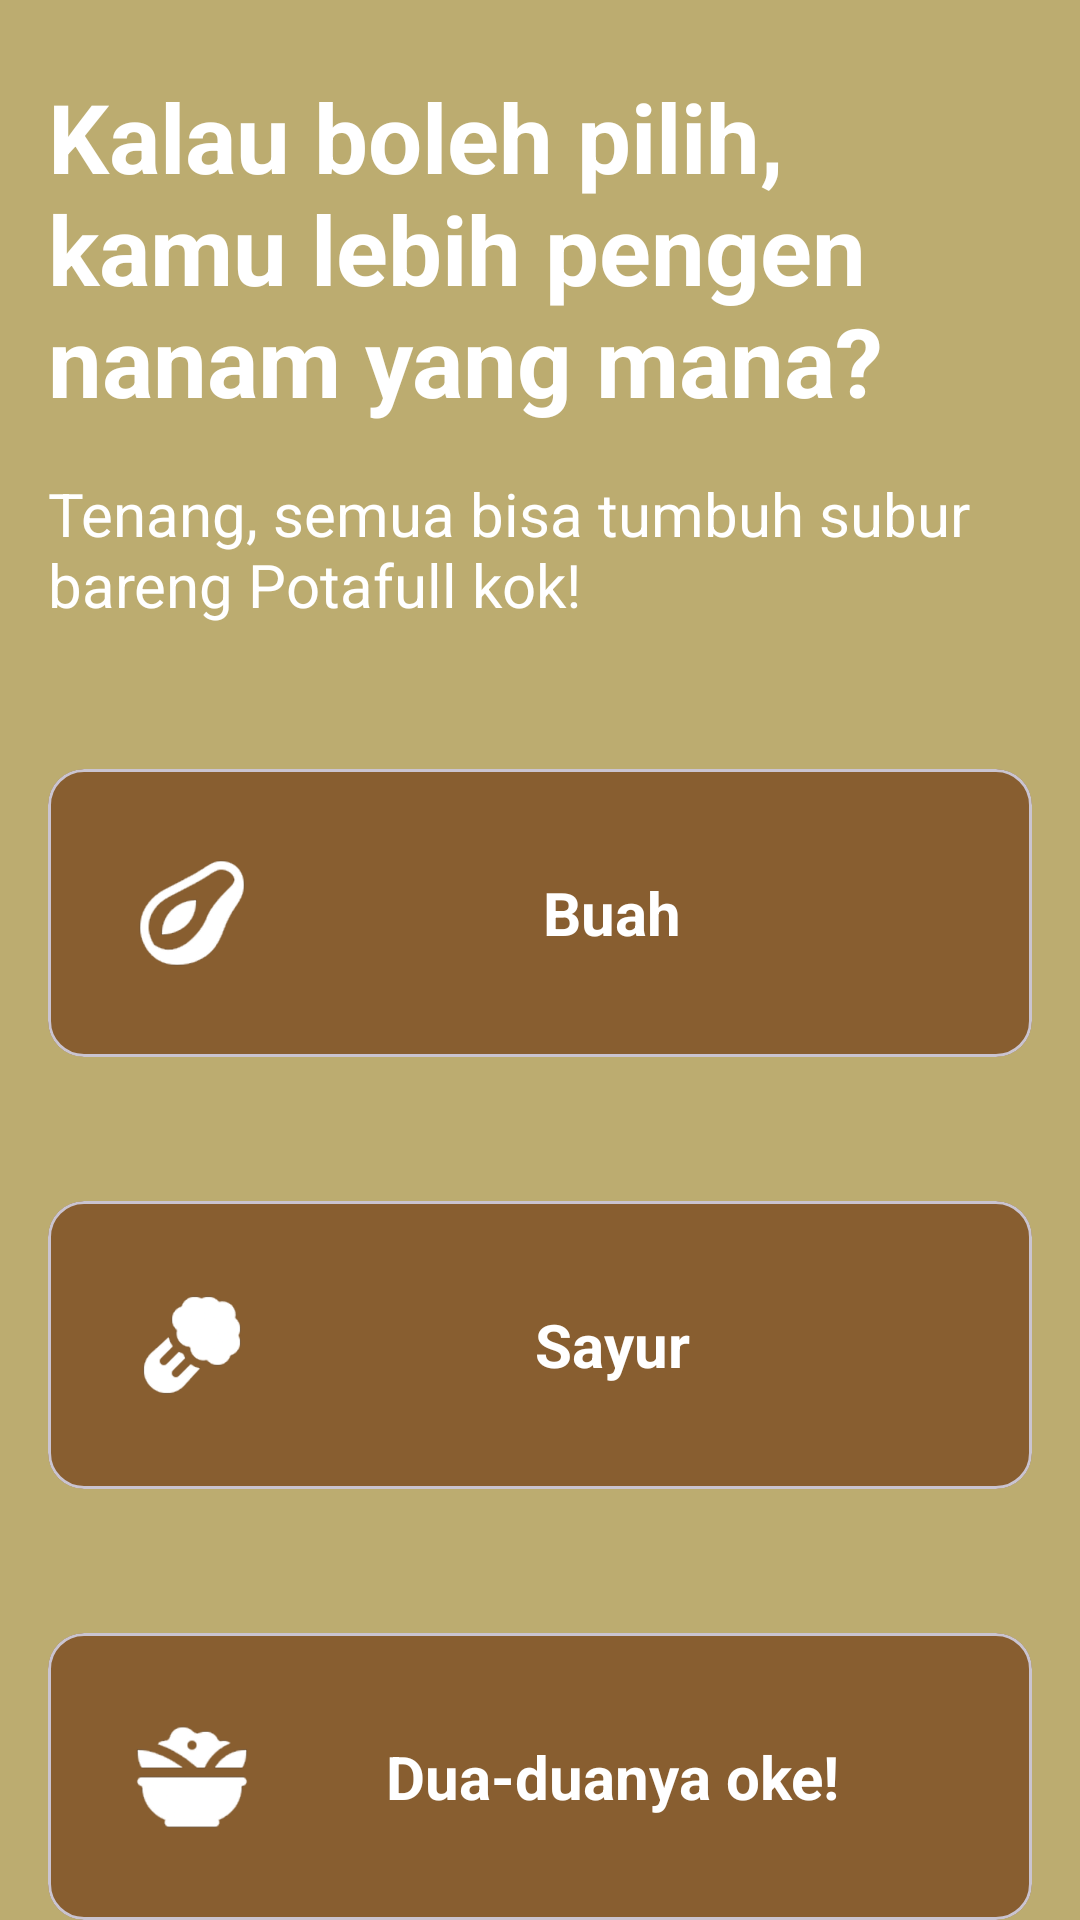

Screen size 1080*1920. Icon name, then its center in pixels as [x,y]:
fruit onboarding: [192,913]
fruit vegetable onboarding: [192,1777]
vegetable onboarding: [192,1345]
